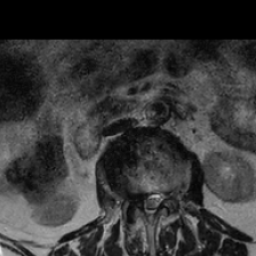CCS_stenosis: (146, 184, 154, 227)
LFS_severe_stenosis: (162, 182, 171, 207)
LLS_normal: (154, 184, 162, 214)
RFS_severe_stenosis: (127, 180, 137, 209)
RLS_severe_stenosis: (137, 182, 146, 213)
